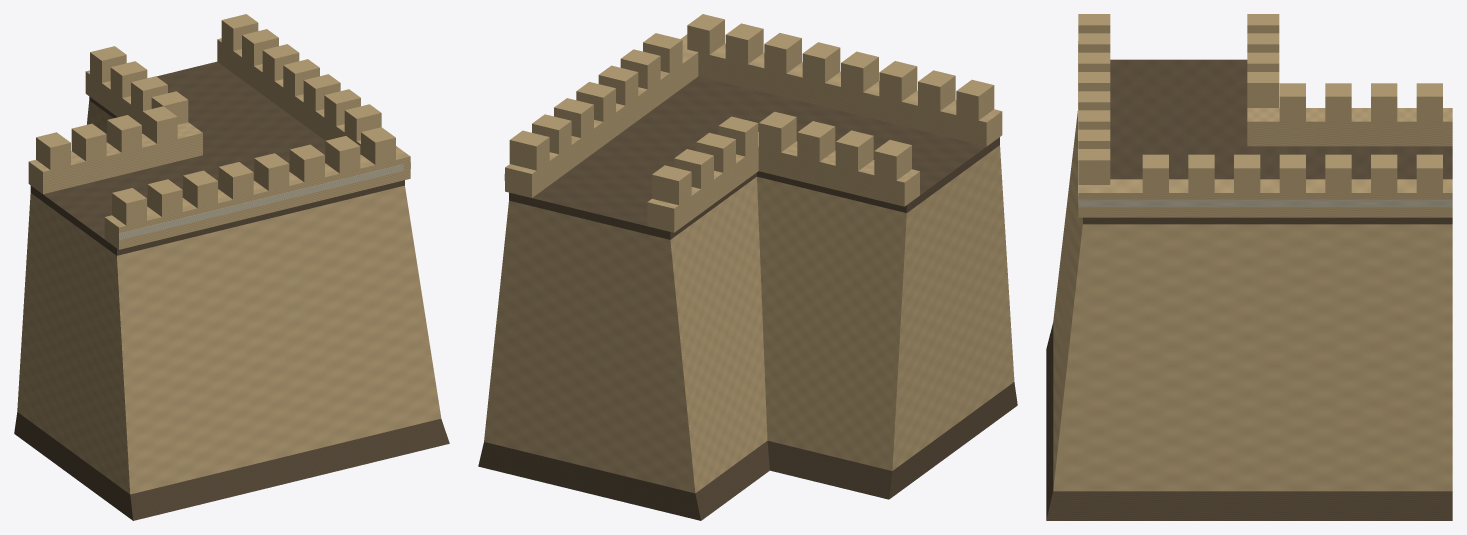
Rendered from Berber_Wall_Age4_corner_90.fbx.
3 renders of one model, left to right at view 1: azimuth 30°, elevation 25°; view 2: azimuth 150°, elevation 25°; view 3: azimuth 270°, elevation 25°, orthographic. The views are drawn at different scales.
Parts seen in each view (by area): view 1: corner_curtain, corner_walk, corner_foot, corner_outer_miter_guard, corner_inner_miter_guard, corner_owner_strip_x, corner_x_merlon.003, corner_x_merlon.001, corner_x_merlon.004, corner_x_merlon.006, corner_x_merlon.009, corner_x_merlon.011 (+17 smaller); view 2: corner_curtain, corner_walk, corner_foot, corner_outer_miter_guard, corner_inner_miter_guard, corner_y_merlon.006, corner_y_merlon.010, corner_x_merlon.010, corner_x_merlon.006, corner_x_merlon, corner_x_merlon.002, corner_x_merlon.009 (+16 smaller); view 3: corner_curtain, corner_walk, corner_foot, corner_outer_miter_guard, corner_inner_miter_guard, corner_owner_strip_y, corner_x_merlon.007, corner_x_merlon.011, corner_y_merlon.001, corner_y_merlon.004, corner_y_merlon.007, corner_y_merlon.008 (+17 smaller).
Boxes of the visible parts, <box> form: corner_curtain: <box>17,100,441,494</box>; corner_walk: <box>30,61,404,255</box>; corner_foot: <box>14,412,449,520</box>; corner_outer_miter_guard: <box>104,38,410,249</box>; corner_inner_miter_guard: <box>28,70,202,194</box>; corner_owner_strip_x: <box>119,164,403,240</box>; corner_x_merlon.003: <box>218,162,253,199</box>; corner_x_merlon.001: <box>147,179,182,216</box>; corner_x_merlon.004: <box>254,153,289,190</box>; corner_x_merlon.006: <box>325,136,360,173</box>; corner_x_merlon.009: <box>71,123,106,161</box>; corner_x_merlon.011: <box>142,106,177,143</box>; corner_curtain: <box>484,145,1014,493</box>; corner_walk: <box>509,76,999,239</box>; corner_foot: <box>478,382,1017,520</box>; corner_outer_miter_guard: <box>505,34,1002,197</box>; corner_inner_miter_guard: <box>647,132,919,232</box>; corner_y_merlon.006: <box>509,130,549,170</box>; corner_y_merlon.010: <box>652,165,691,205</box>; corner_x_merlon.010: <box>797,121,835,161</box>; corner_x_merlon.006: <box>725,23,763,64</box>; corner_x_merlon: <box>956,79,994,120</box>; corner_x_merlon.002: <box>879,61,917,101</box>; corner_x_merlon.009: <box>835,130,873,170</box>; corner_curtain: <box>1053,111,1452,491</box>; corner_walk: <box>1083,59,1452,224</box>; corner_foot: <box>1046,322,1452,520</box>; corner_outer_miter_guard: <box>1078,179,1452,217</box>; corner_inner_miter_guard: <box>1247,108,1452,146</box>; corner_owner_strip_y: <box>1078,199,1452,207</box>; corner_x_merlon.007: <box>1078,149,1110,184</box>; corner_x_merlon.011: <box>1247,72,1279,107</box>; corner_y_merlon.001: <box>1188,154,1214,192</box>; corner_y_merlon.004: <box>1325,154,1351,192</box>; corner_y_merlon.007: <box>1279,83,1305,121</box>; corner_y_merlon.008: <box>1325,83,1351,121</box>.
Size of the model in its own units: 890 by 820 by 890.
Materials: 3 (3 with a texture image).
